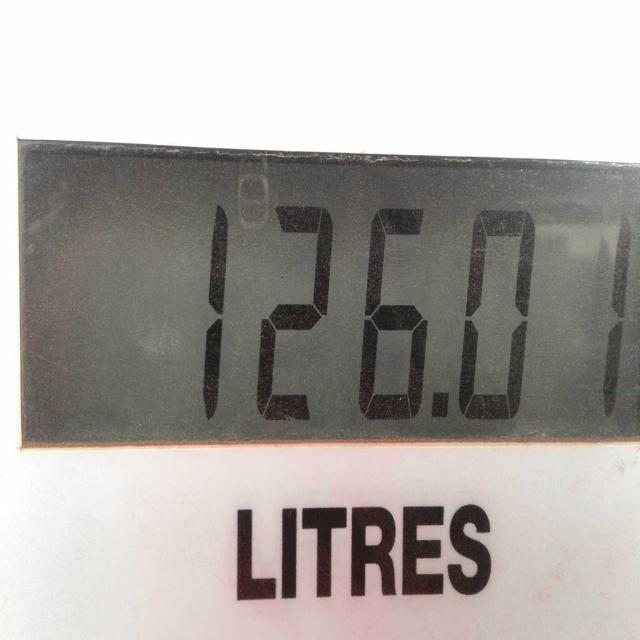.: (426, 377, 454, 436)
0: (453, 184, 532, 429)
1: (168, 188, 254, 428), (576, 208, 636, 437)
2: (253, 192, 341, 420)
6: (340, 187, 427, 426)
